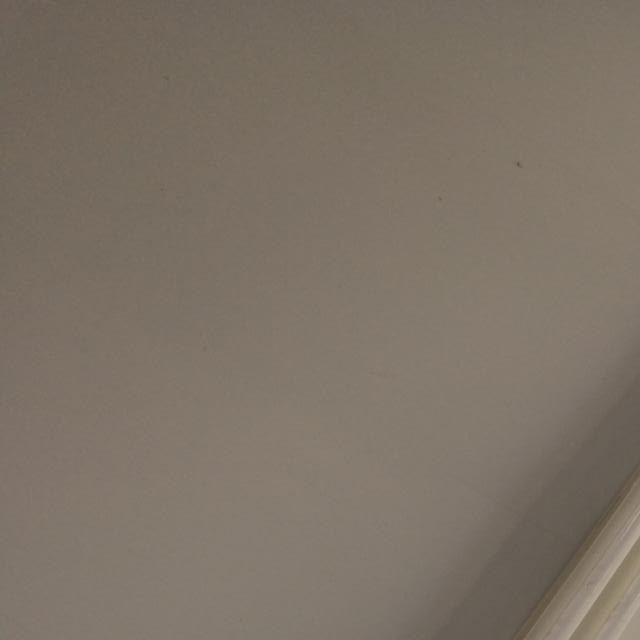fluorescent tube: (279, 219, 640, 640)
